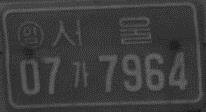0: (18, 57, 41, 97)
4: (167, 51, 189, 91)
6: (144, 52, 166, 92)
7: (97, 53, 120, 93), (41, 55, 62, 96)
9: (121, 53, 144, 92)
가: (69, 58, 90, 90)
서울_D: (50, 15, 154, 49)
영: (16, 20, 45, 50)
